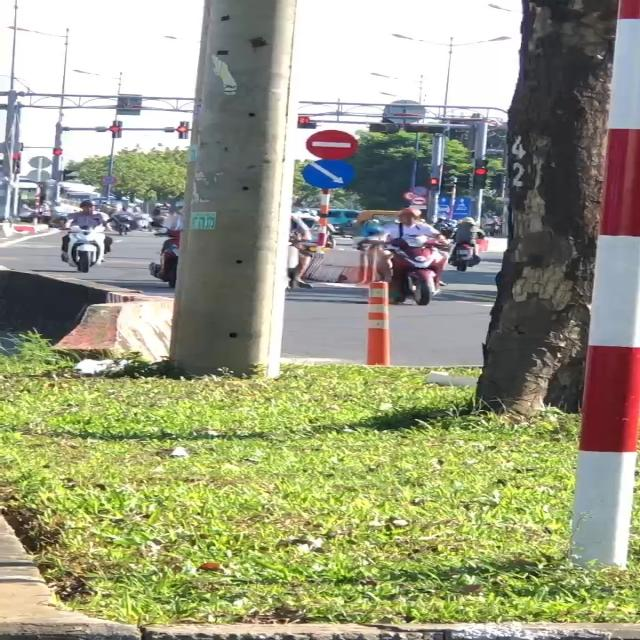Bien bao cam di nguoc chieu: (304, 128, 364, 161)
Bien bao huong phai di vong chuong ngai vat: (302, 158, 357, 190)
